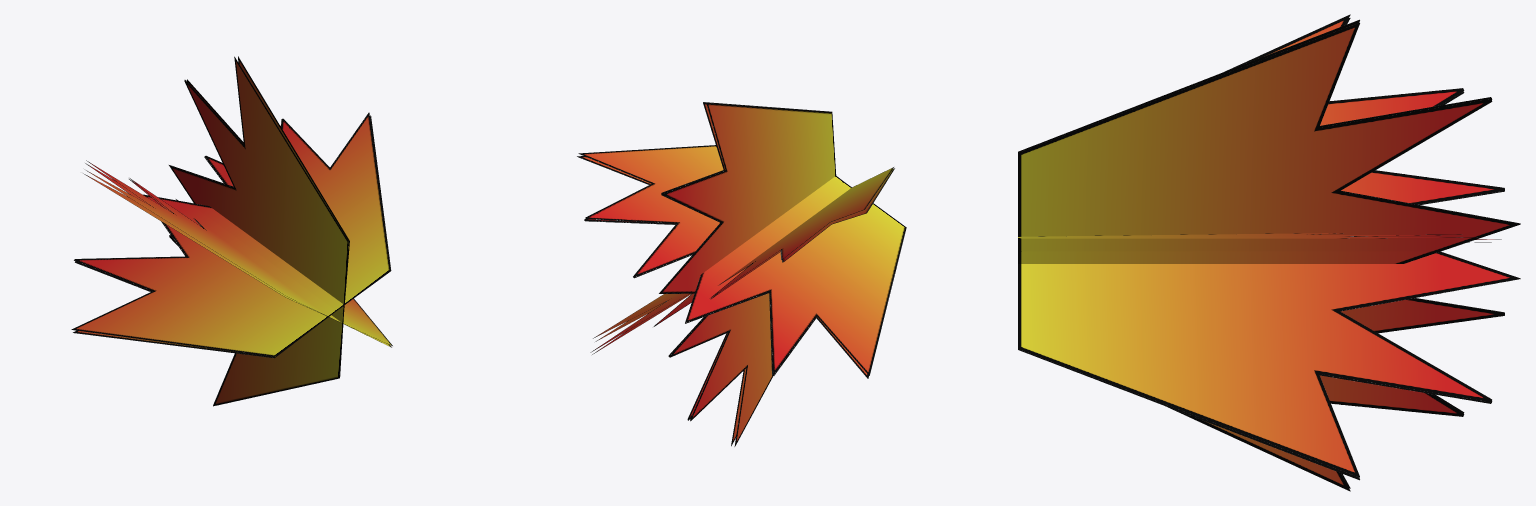
The model's file is GunEffects1.fbx.
3 views of the same model, side by side, from view 1: azimuth 30°, elevation 25°; view 2: azimuth 150°, elevation 25°; view 3: azimuth 270°, elevation 25° (orthographic). The views are drawn at different scales.
Parts seen in each view (by area): view 1: GunEffect1; view 2: GunEffect1; view 3: GunEffect1.
Part boxes in pixels (box(x1,y1,x2,y2)): GunEffect1: box(71, 56, 392, 406); GunEffect1: box(577, 102, 906, 446); GunEffect1: box(1018, 14, 1520, 491).
Bounding box in the file's own units: 44.48 × 45.87 × 48.99.
Materials: 1 (1 with a texture image).
